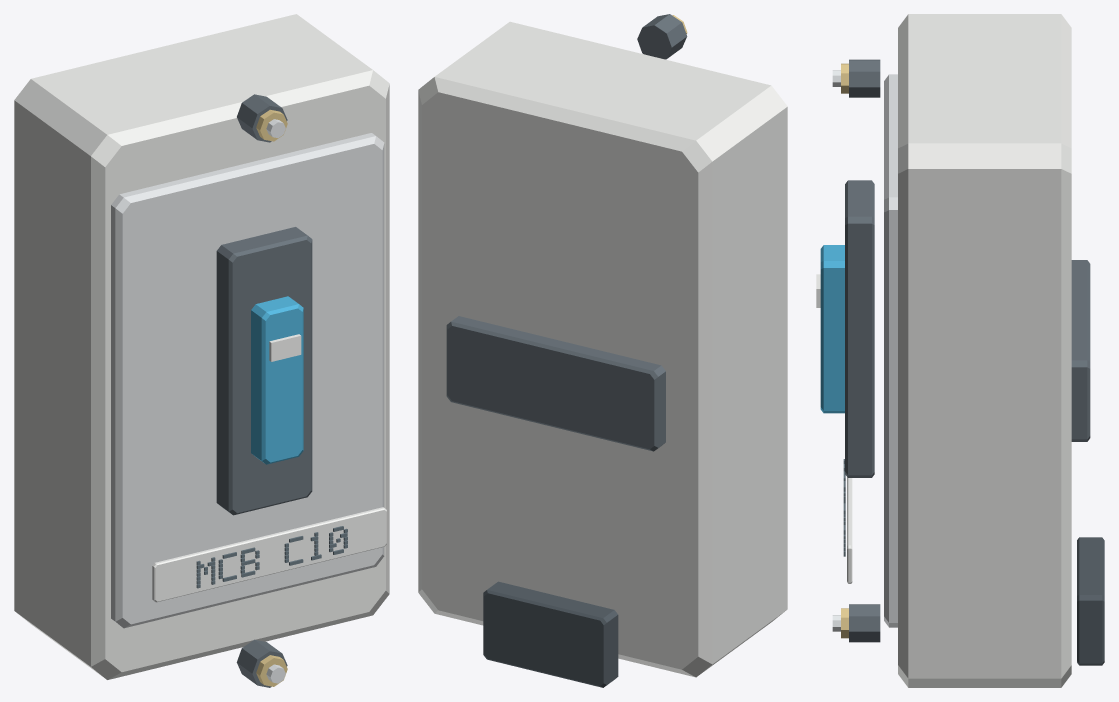
Rendered from circuitBreaker.glb.
3 renders of one model, left to right at view 1: azimuth 30°, elevation 25°; view 2: azimuth 150°, elevation 25°; view 3: azimuth 270°, elevation 25°, orthographic.
Visible parts, largest first — view 1: circuitBreaker-board; view 2: circuitBreaker-board; view 3: circuitBreaker-board.
Boxes of the visible parts, bbox=[...] form: circuitBreaker-board: bbox=[14, 14, 389, 687]; circuitBreaker-board: bbox=[418, 14, 787, 687]; circuitBreaker-board: bbox=[816, 14, 1104, 687].
Bounding box in the file's own units: 1.62 × 3.02 × 1.36.
